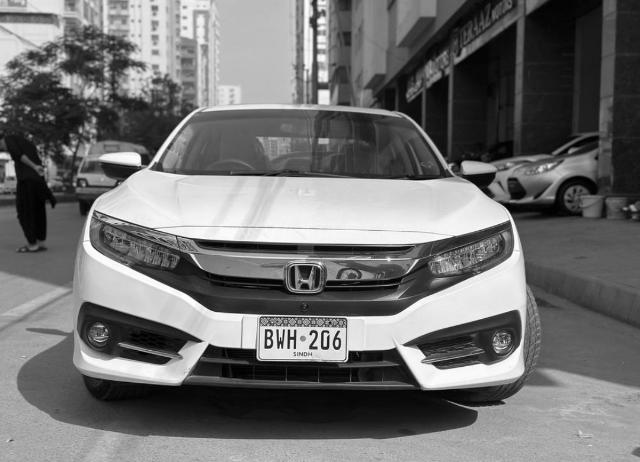Number: (262, 326, 348, 352)
